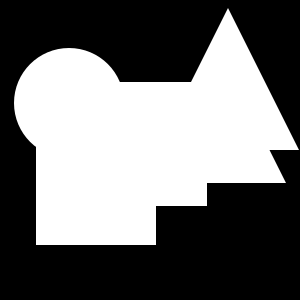circle: (83, 82, 207, 206), (36, 125, 156, 245)
rectangle: (14, 48, 124, 158)
triangle: (157, 8, 299, 150), (184, 81, 286, 183)
